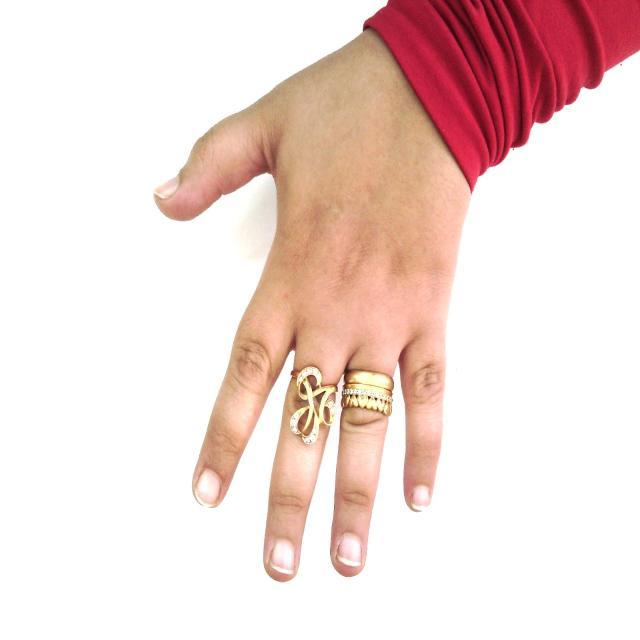Fingernail: (271, 539, 295, 574), (197, 470, 220, 506), (337, 534, 362, 566), (154, 177, 179, 199), (411, 485, 429, 510)
